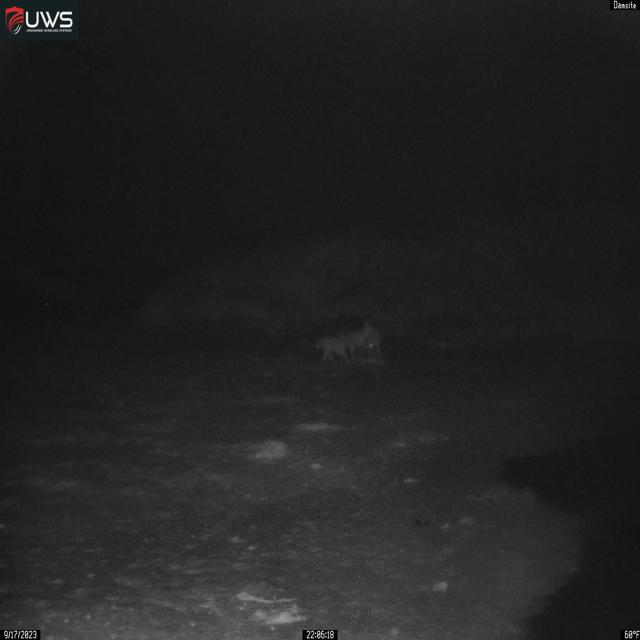coyote: (313, 335, 351, 365)
